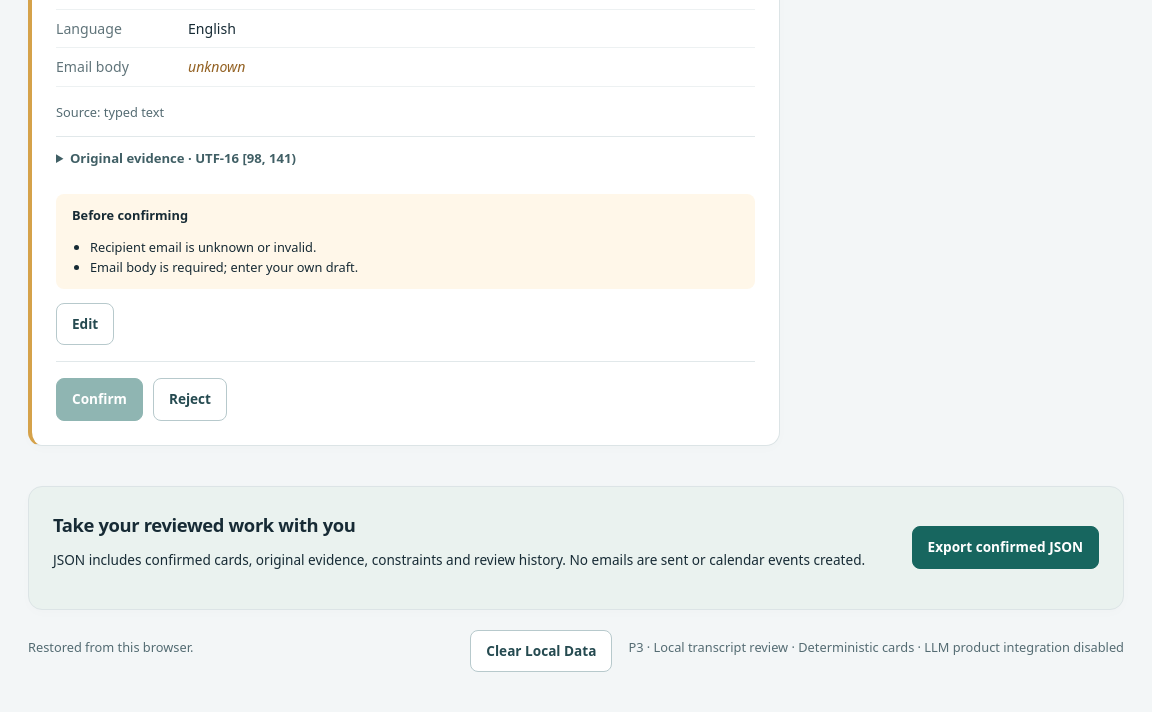
it: reports failed clearing without deleting the in-memory workspace
This screenshot has width=1152, height=712.
(page scrolled)
Click the button "Clear Local Data".
click(541, 651)  # box top-left (470, 630), bottom-right (612, 672)
(page scrolled)
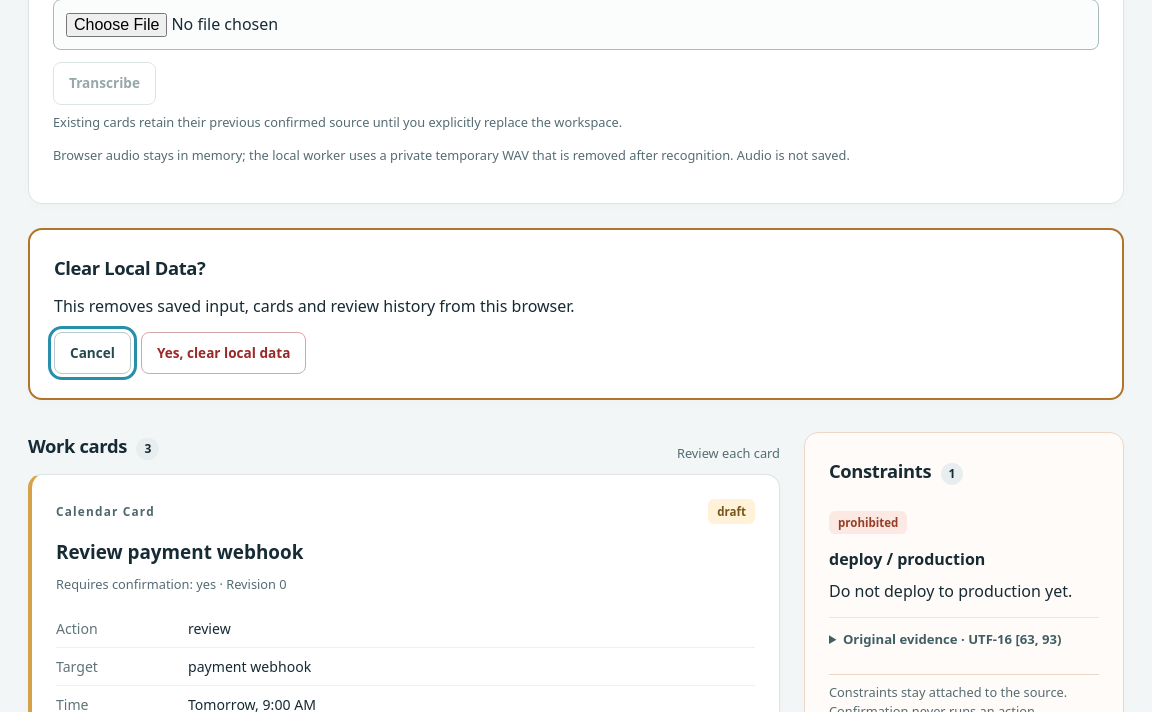
Click the button "Yes, clear local data".
click(224, 353)  # box top-left (141, 332), bottom-right (306, 374)
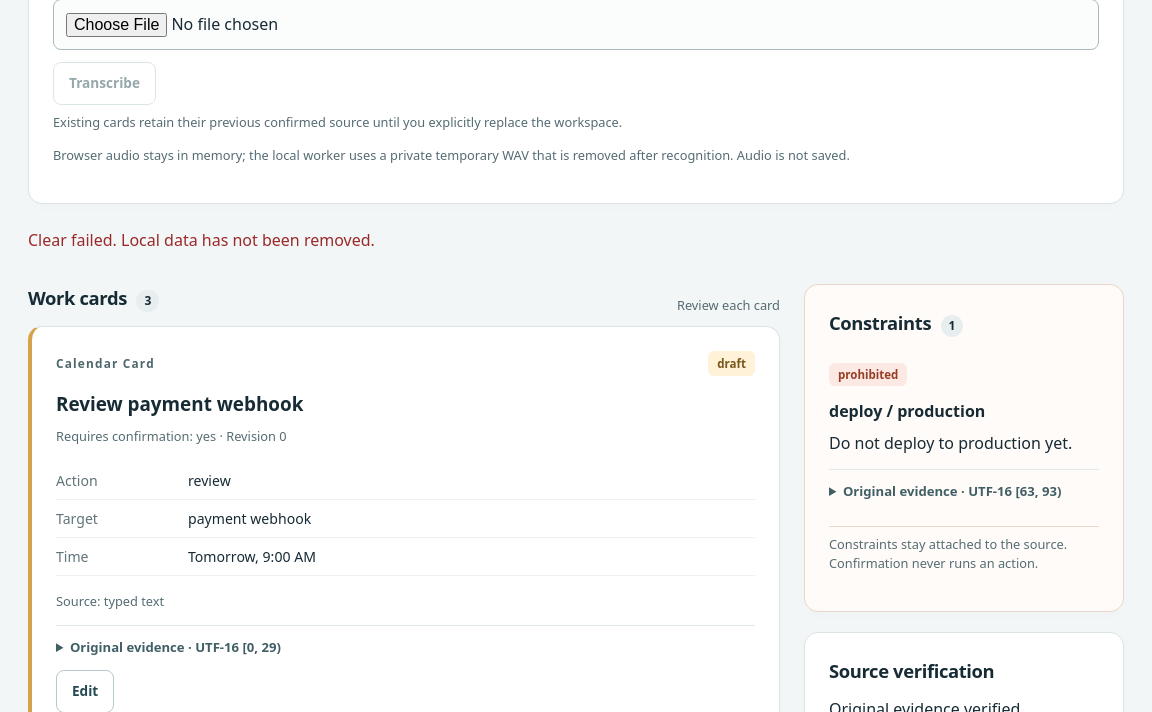
Expected: the message "Clear failed. Local data has not been removed." is shown, top-left (28, 229), bottom-right (375, 251)
